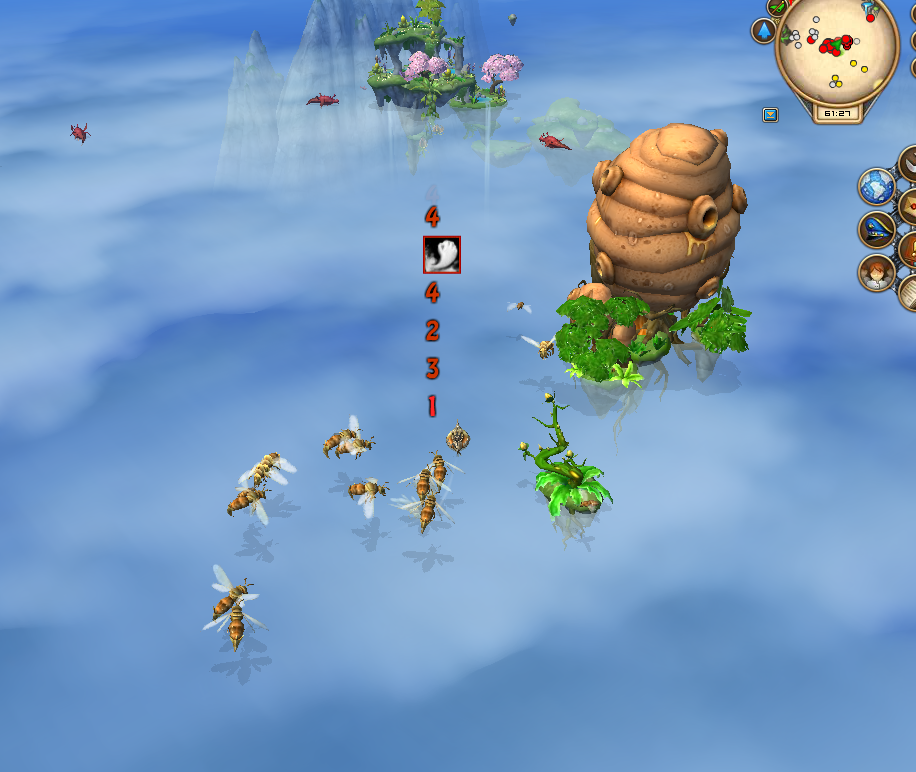dandelion-empty: (517, 393, 615, 551)
